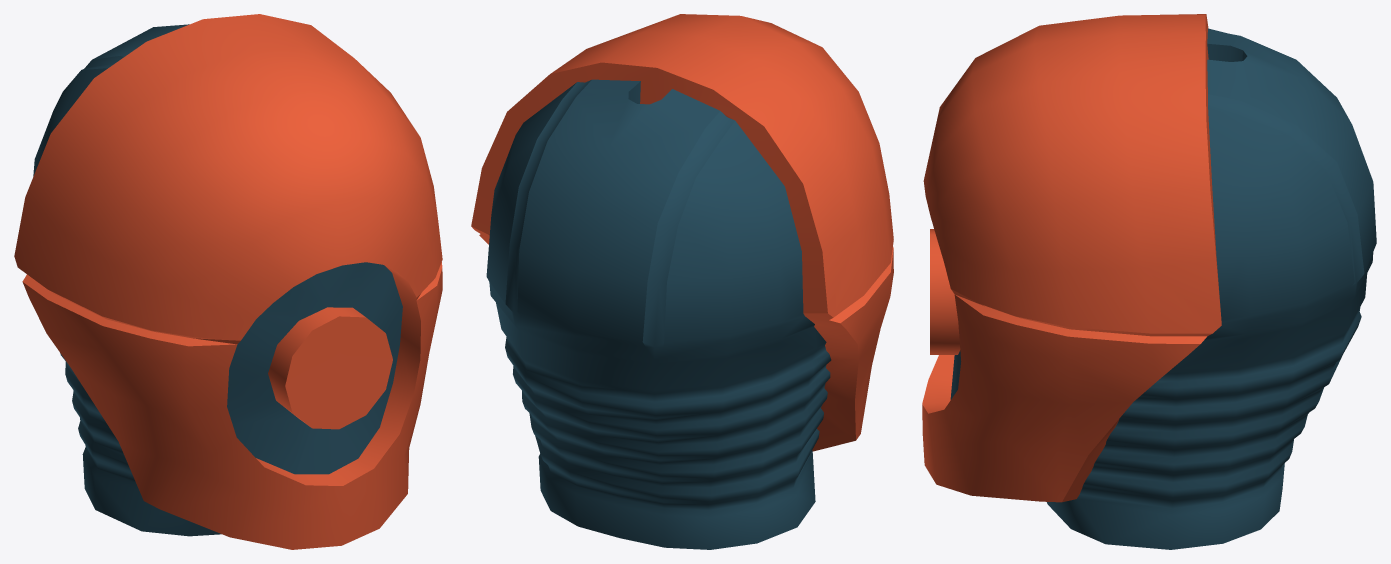
File: Guavian Security Soldier.gltf
3 views of the same model, side by side, from view 1: azimuth 30°, elevation 25°; view 2: azimuth 150°, elevation 25°; view 3: azimuth 270°, elevation 25° (orthographic). The views are drawn at different scales.
Visible parts, largest first — view 1: Object; view 2: Object; view 3: Object.
Boxes of the visible parts, x1,y1,x2,y2 form: Object: [14, 14, 442, 549]; Object: [471, 14, 893, 549]; Object: [922, 14, 1376, 549].
Bounding box in the file's own units: 0.5822 × 0.6827 × 0.618.
